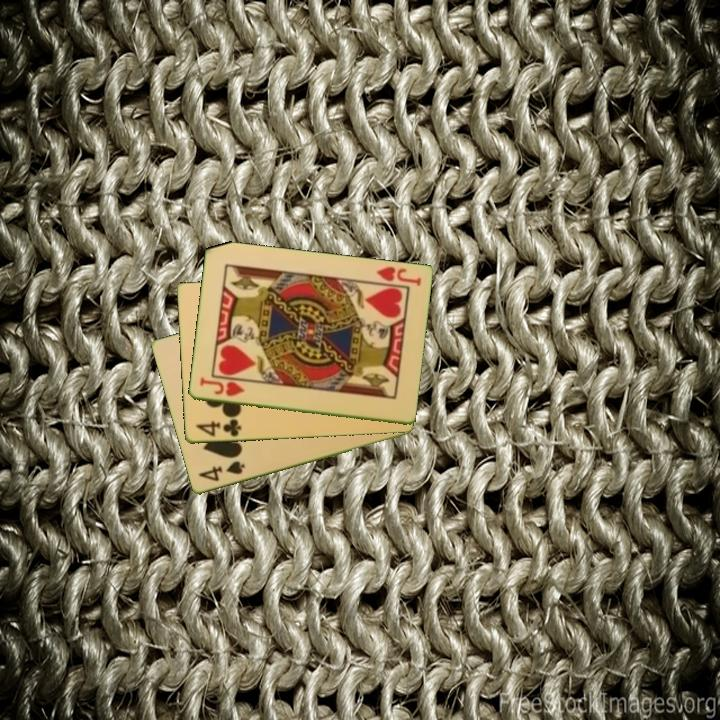4c: (192, 416, 244, 440)
4s: (194, 458, 248, 485)
Jh: (368, 263, 423, 289), (196, 374, 247, 400)
